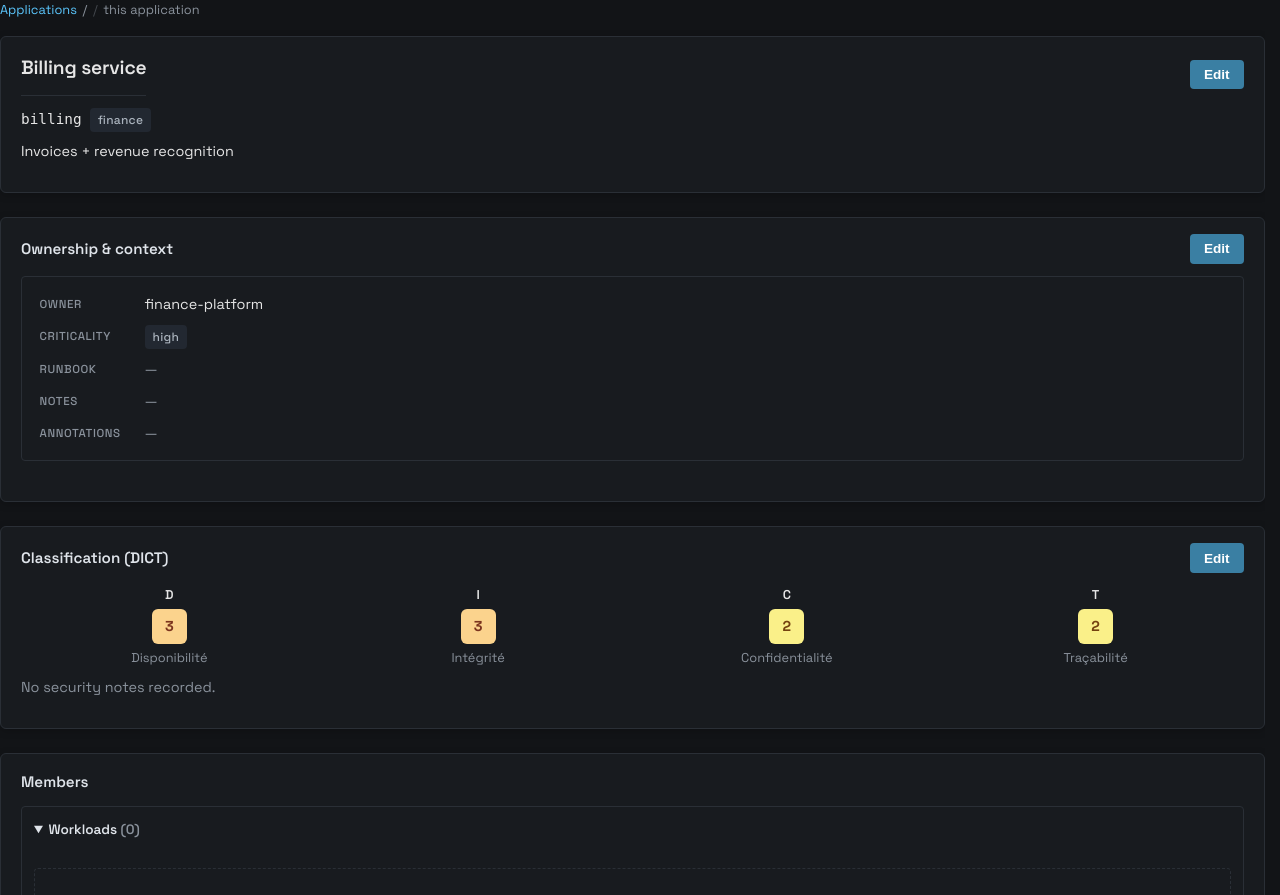
Test case: ApplicationDetail › validates DICT axis range (rejects > 4)
Expected: the heading "Classification (DICT)" is shown, [21, 546, 168, 570]
The DICT card Edit button is the last of the three.
Step 1. Click the button "Edit" in the row of "Classification (DICT)" → coordinates (1217, 558), box [1190, 543, 1244, 573]
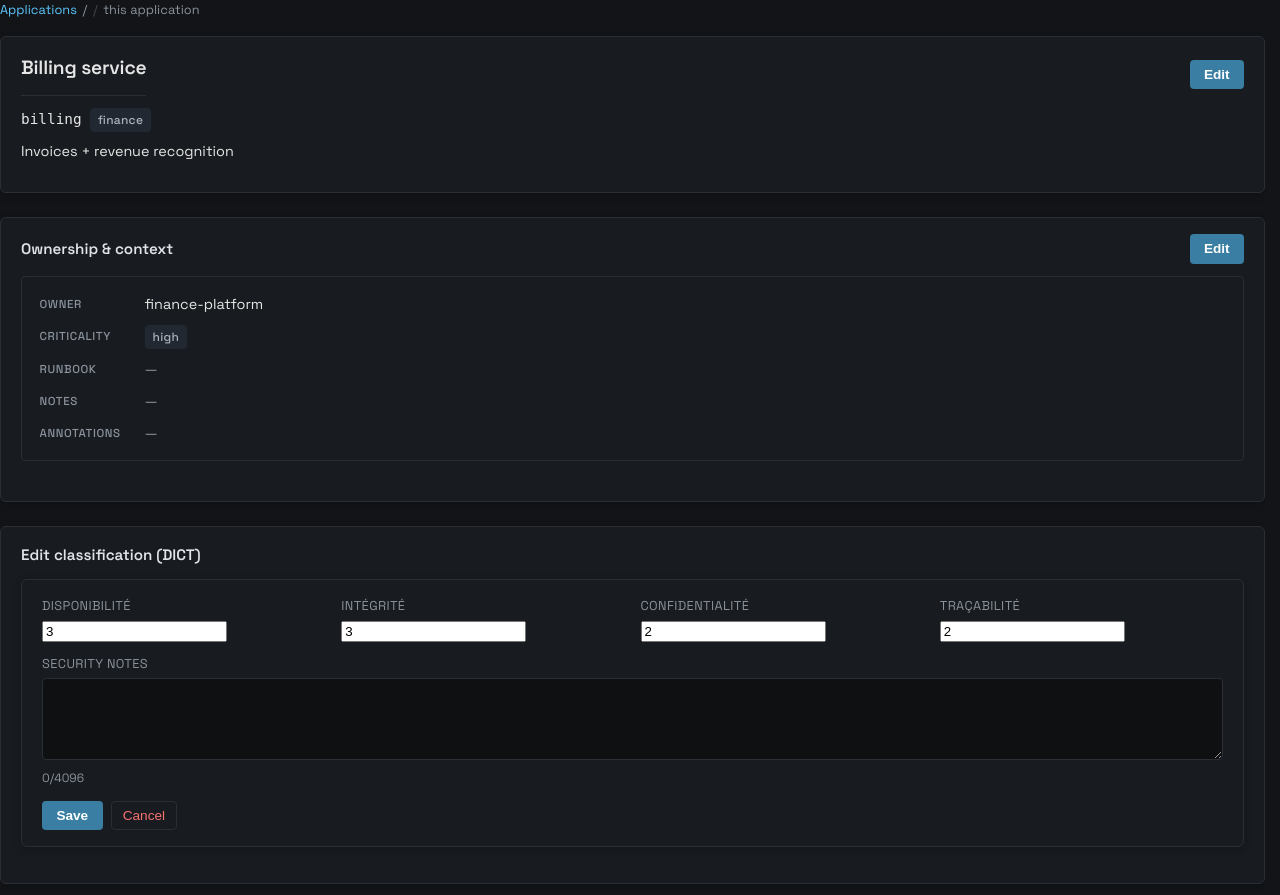
Step 2. Replace the text in the number field named "Disponibilité" with "7" → coordinates (134, 631), box [42, 621, 227, 642]
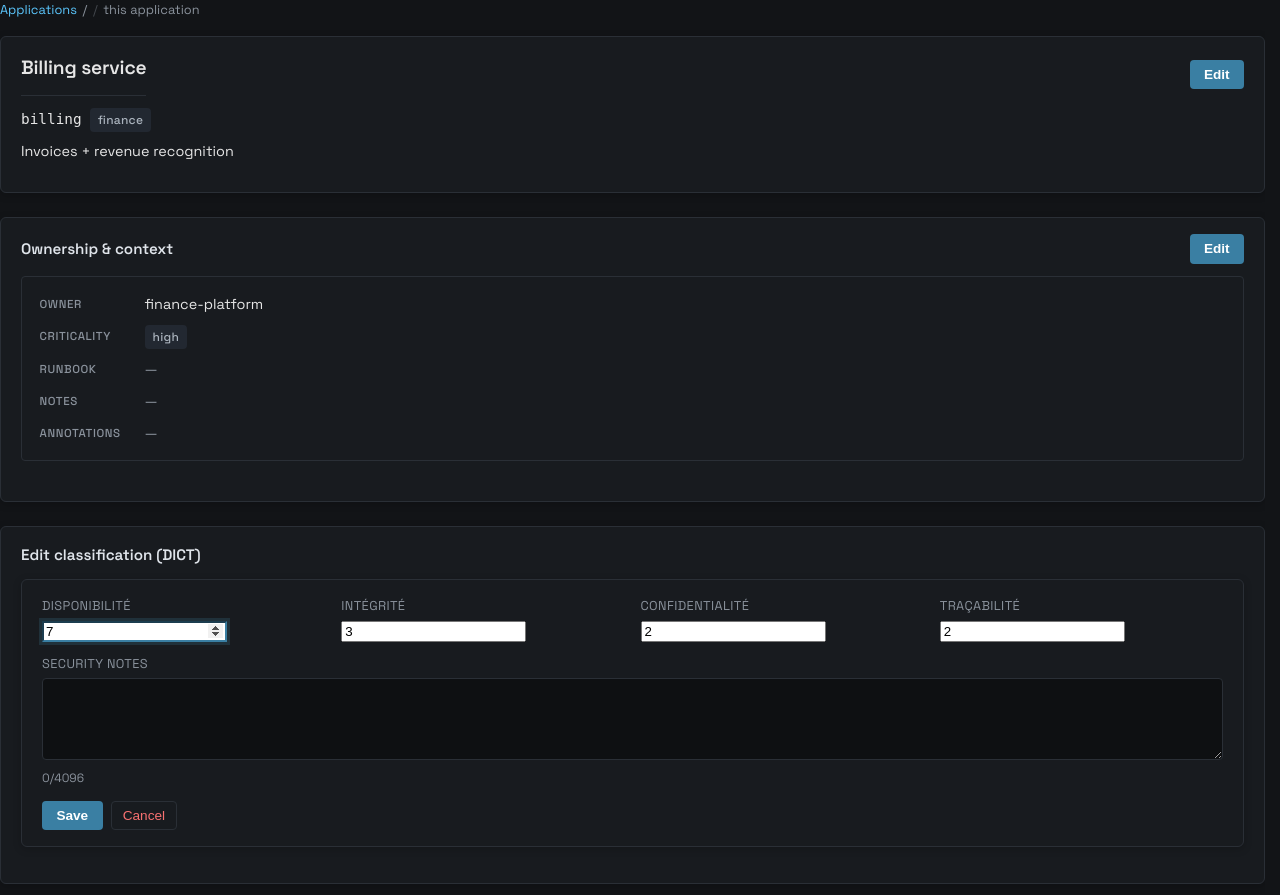
Step 3. Click the button "Save" → coordinates (72, 815), box [42, 800, 102, 830]
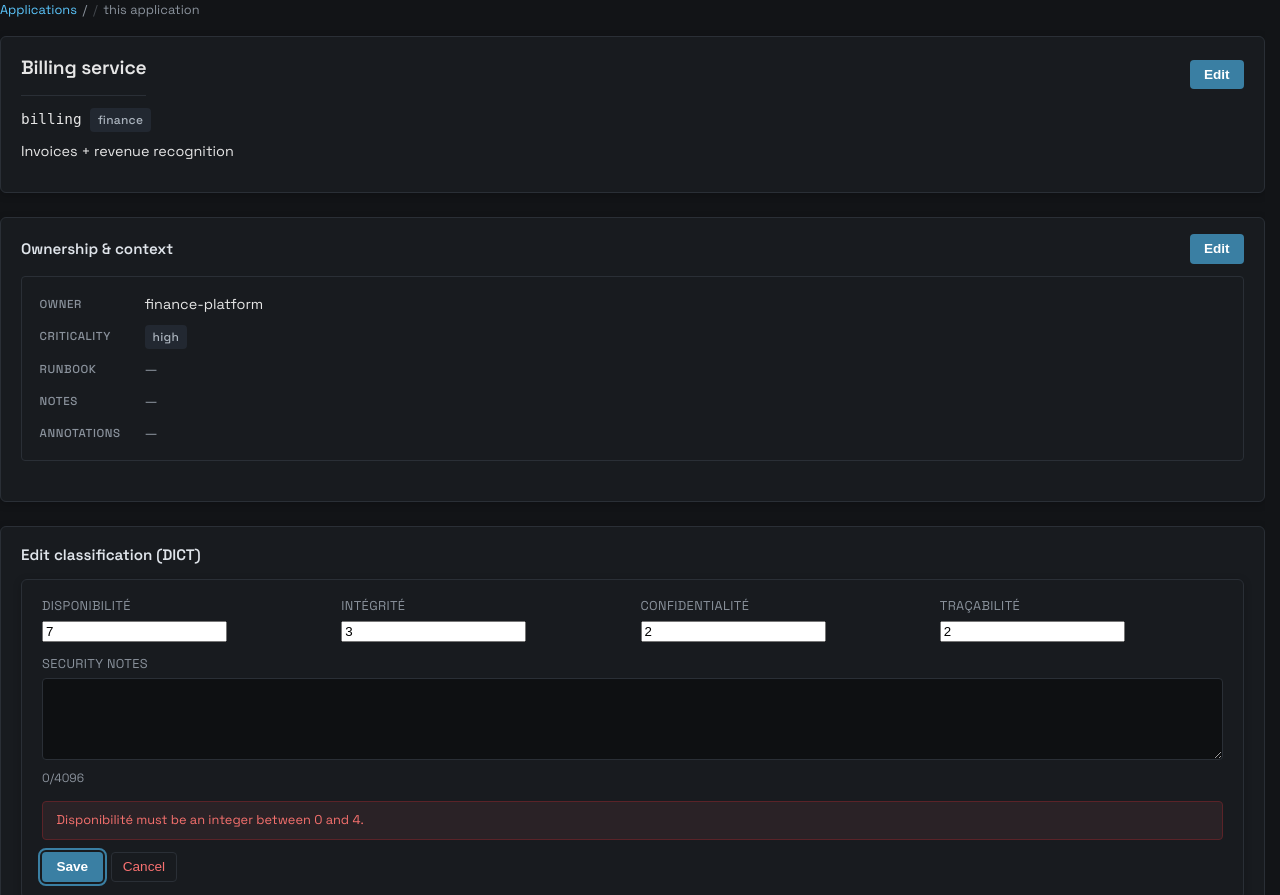
Expected: the text "Disponibilité must be an integer between 0 and 4." is shown, [42, 800, 1223, 840]
